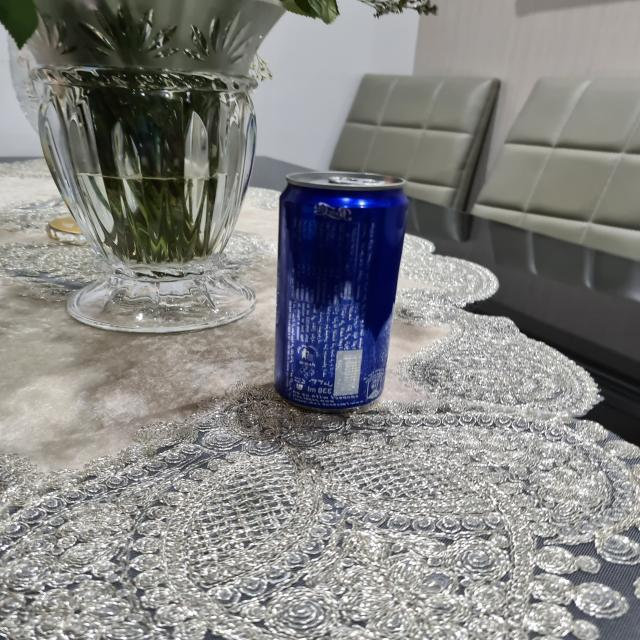can: (274, 170, 408, 414)
